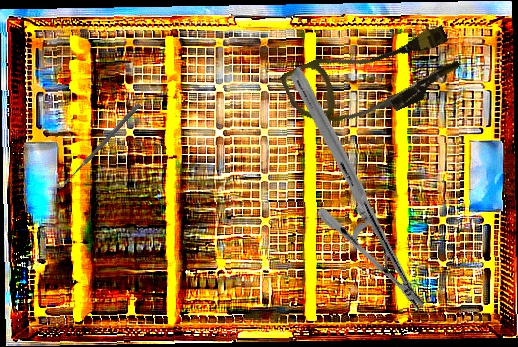Cannula: (279, 7, 466, 149)
Needle Holder: (219, 65, 496, 315)
Surgical Spoon: (57, 102, 142, 191)
